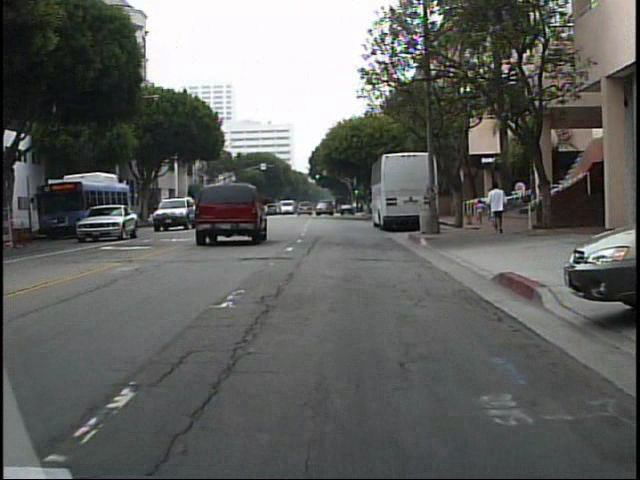person: (488, 180, 513, 237), (473, 195, 486, 228)
